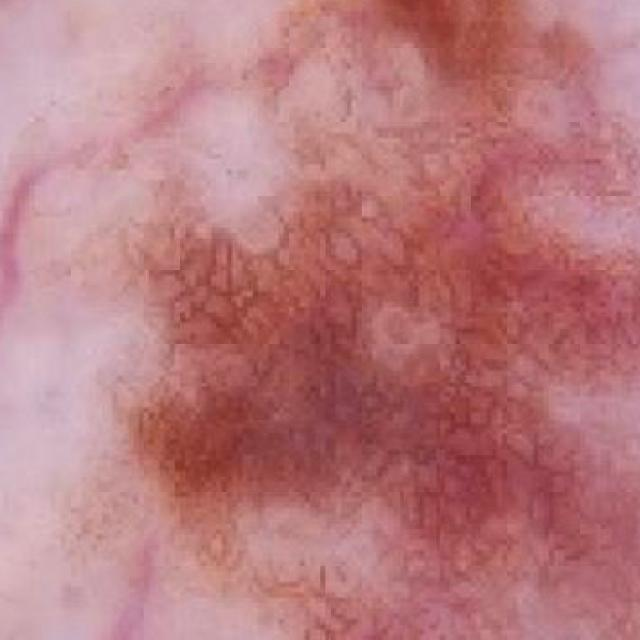BKL: (143, 0, 640, 640)
